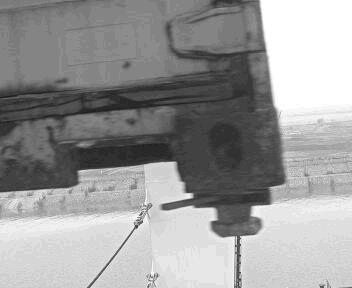twist_lock_1: (202, 122, 231, 149)
